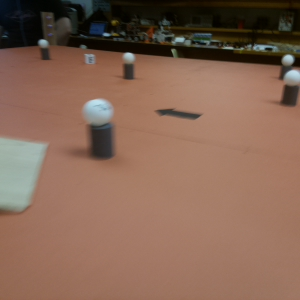blockF: (84, 52, 95, 65)
corner: (41, 11, 55, 46)
obstacle: (86, 99, 117, 161), (282, 71, 299, 111), (121, 50, 137, 82), (283, 54, 295, 79), (39, 38, 50, 61)
start: (154, 105, 204, 126)
